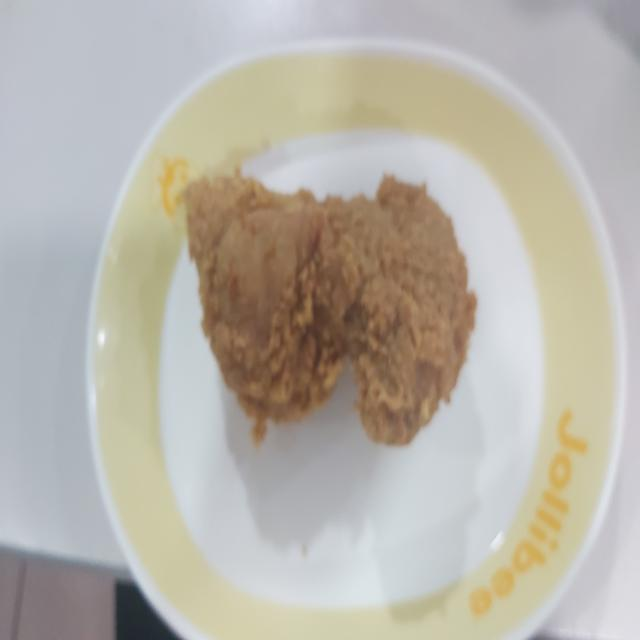Chicken -Fried Chicken-: (182, 158, 481, 444)
